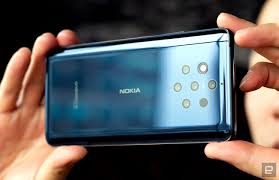nokia: (36, 25, 237, 150)
